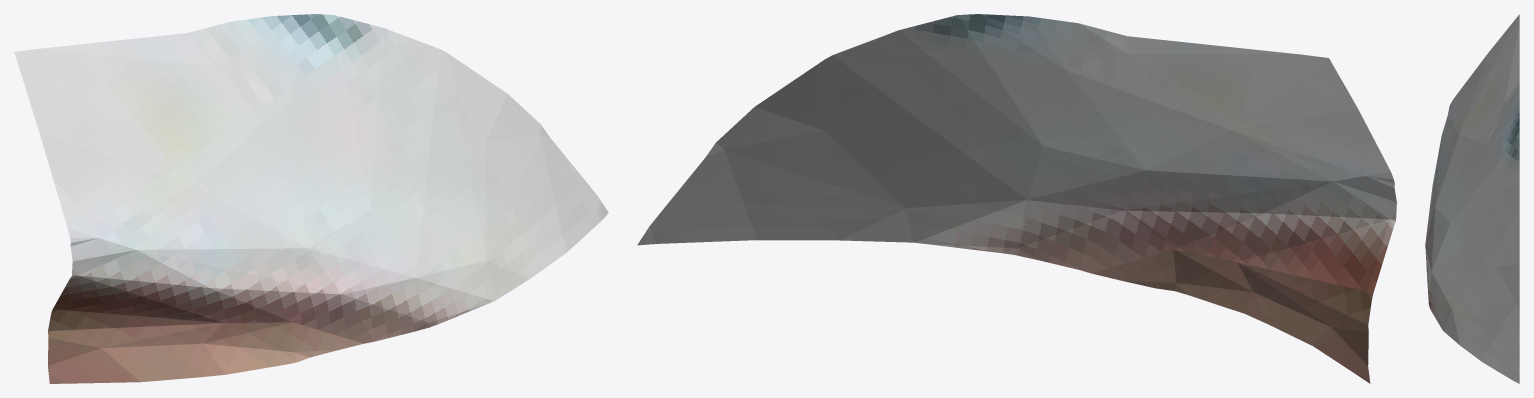
3 renders of one model, left to right at view 1: azimuth 30°, elevation 25°; view 2: azimuth 150°, elevation 25°; view 3: azimuth 270°, elevation 25°, orthographic. The views are drawn at different scales.
Parts seen in each view (by area): view 1: 091_W_Aya_100K_01; view 2: 091_W_Aya_100K_01; view 3: 091_W_Aya_100K_01.
Part boxes in pixels (<box>): 091_W_Aya_100K_01: <box>14,14,608,383</box>; 091_W_Aya_100K_01: <box>637,14,1396,383</box>; 091_W_Aya_100K_01: <box>1425,14,1519,383</box>.
Size of the model in its own units: 36.27 by 17.84 by 8.04.
Materials: 1 (1 with a texture image).
